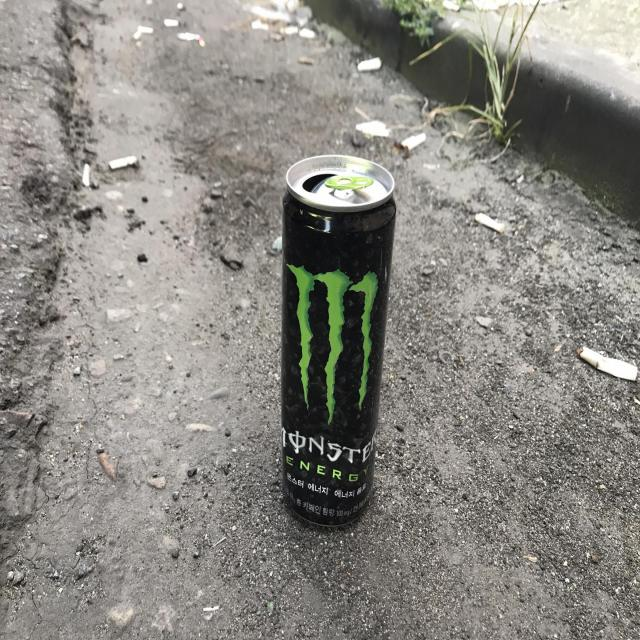can: (282, 154, 396, 526)
